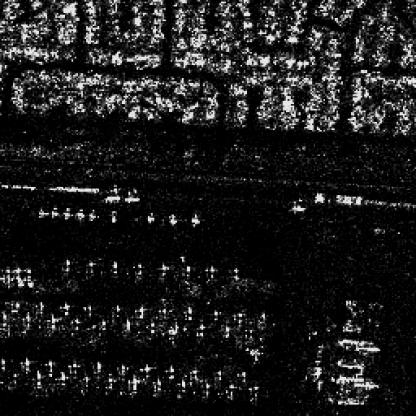airplane: (127, 375, 141, 395), (245, 385, 260, 401), (164, 322, 180, 336), (174, 379, 188, 395), (110, 258, 122, 276), (84, 260, 98, 275), (58, 302, 72, 317), (230, 310, 244, 325), (151, 378, 166, 392), (47, 315, 59, 332), (93, 358, 104, 376), (200, 379, 214, 393), (223, 384, 237, 398), (211, 307, 226, 320), (213, 367, 226, 382), (81, 374, 93, 390), (96, 318, 109, 332), (57, 369, 70, 383), (138, 361, 151, 375), (162, 364, 176, 377), (107, 208, 119, 223), (68, 359, 80, 374), (86, 208, 99, 221), (20, 314, 32, 328), (187, 368, 201, 380), (237, 370, 249, 384), (0, 314, 10, 330), (46, 358, 56, 374), (190, 213, 202, 226), (134, 304, 146, 317), (61, 257, 72, 271), (10, 300, 21, 314), (166, 212, 178, 224), (159, 264, 171, 276), (229, 266, 241, 278), (82, 306, 94, 318), (19, 358, 31, 370), (148, 320, 159, 333), (72, 318, 82, 332), (112, 304, 122, 318), (184, 306, 194, 320), (196, 322, 206, 336), (118, 362, 128, 376), (61, 206, 72, 218), (145, 211, 156, 223), (132, 262, 143, 274), (205, 264, 216, 276), (104, 376, 115, 388), (221, 325, 231, 338), (74, 206, 84, 218), (124, 316, 134, 328), (8, 372, 18, 384), (38, 302, 46, 316), (182, 265, 192, 276), (36, 369, 44, 379), (0, 357, 6, 370), (51, 205, 58, 216), (37, 210, 47, 216)
